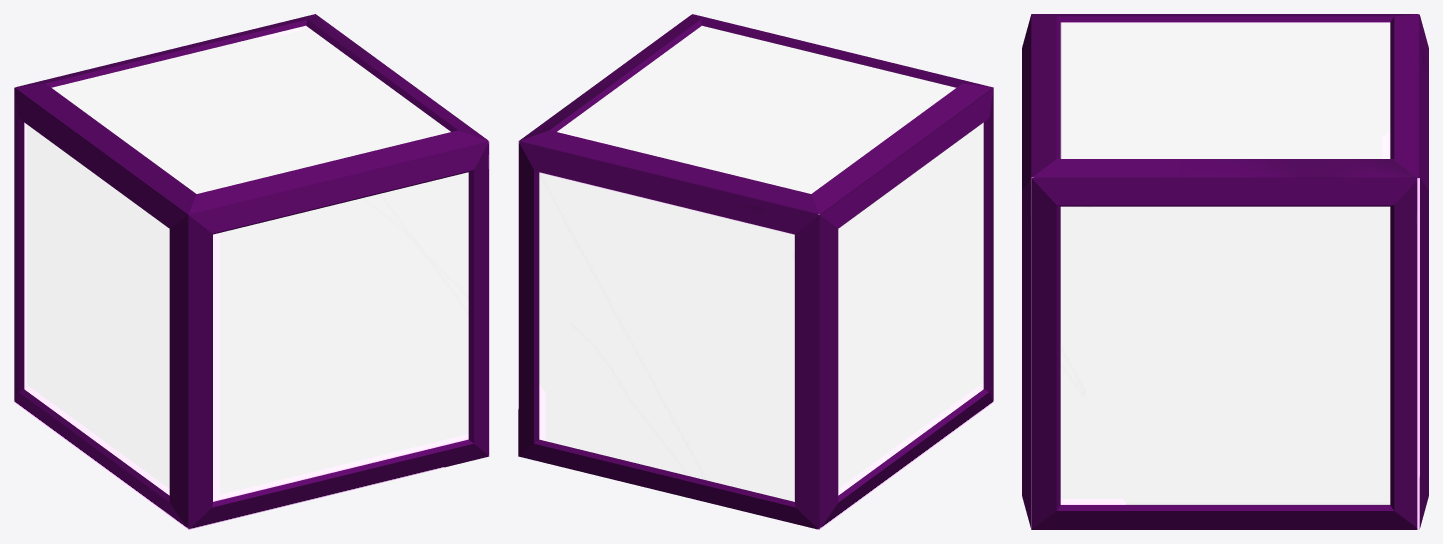
3 views of the same model, side by side, from view 1: azimuth 30°, elevation 25°; view 2: azimuth 150°, elevation 25°; view 3: azimuth 270°, elevation 25° (orthographic). The views are drawn at different scales.
Visible parts, largest first — view 1: SK_Cube; view 2: SK_Cube; view 3: SK_Cube.
Part boxes in pixels (x1,y1,x2,y2): SK_Cube: [14, 14, 489, 529]; SK_Cube: [518, 14, 993, 529]; SK_Cube: [1022, 14, 1428, 529].
Bounding box in the file's own units: 105 × 105 × 105.
Materials: 1 (1 with a texture image).
